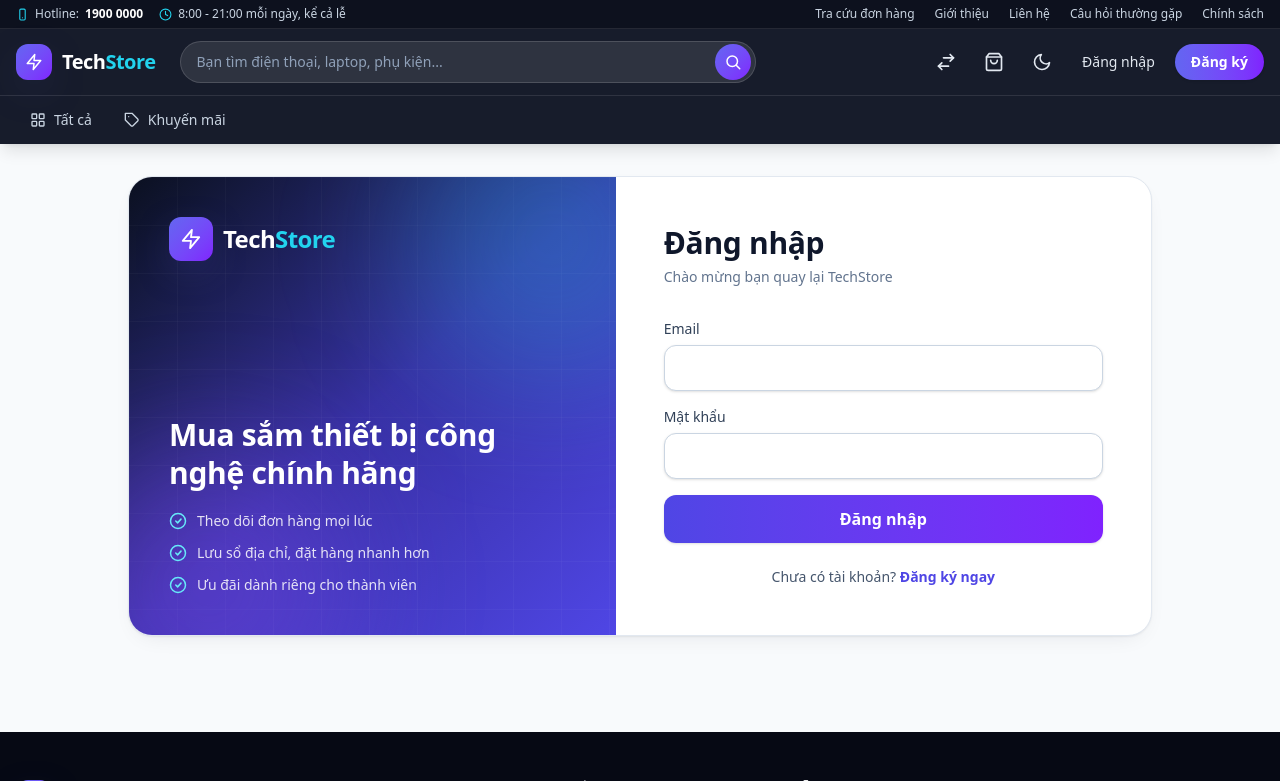
Test: Trang đăng nhập › báo lỗi từng ô và không gọi API khi để trống
The width and height of the screenshot is (1280, 781).
Click the button "Đăng nhập" at [883, 519], box [664,495,1103,543]
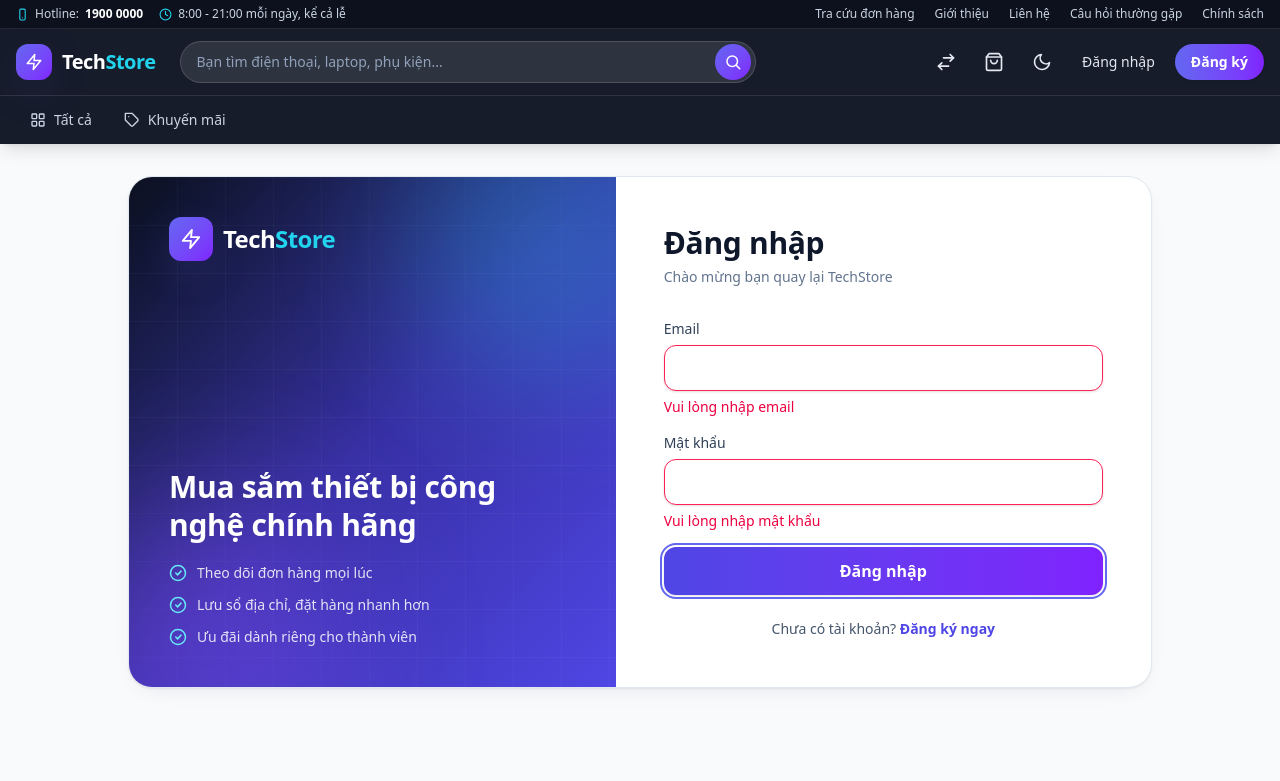
Result: the text "Vui lòng nhập email" is shown at [664,397,794,416]
Result: the text "Vui lòng nhập mật khẩu" is shown at [664,511,820,530]
